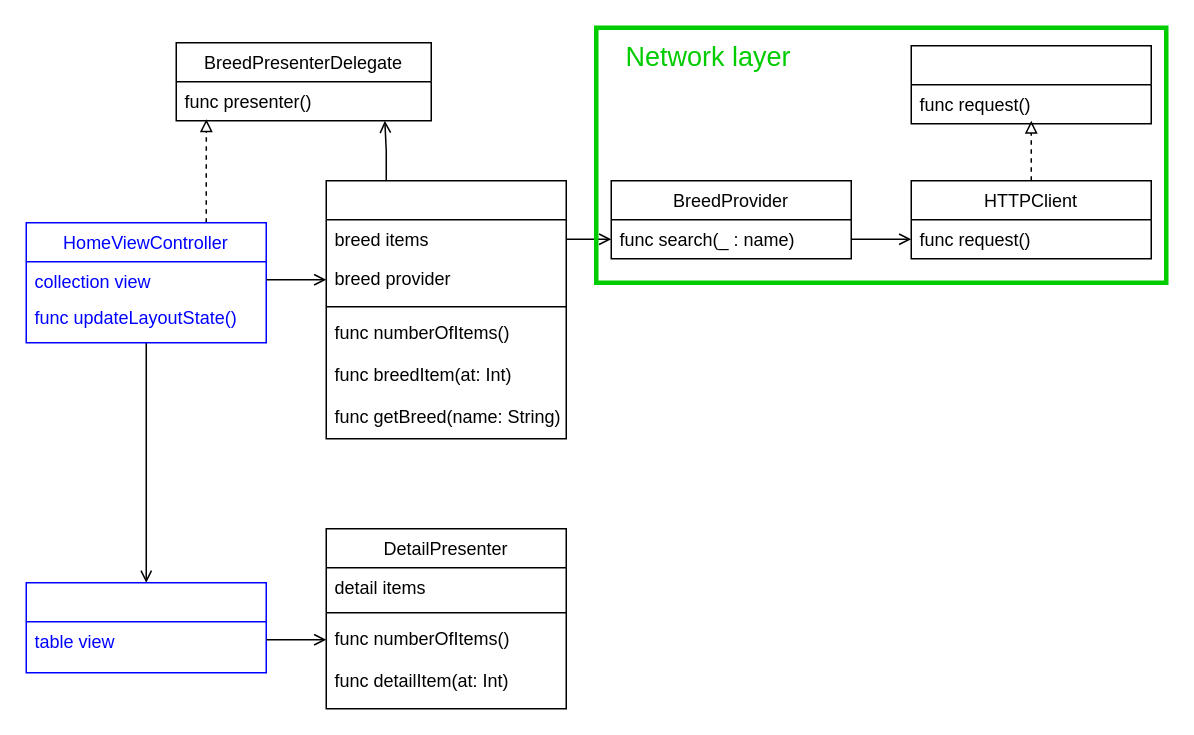
The diagram is 1194 pixels wide and 735 high, and some of its shapes have lost their labels. The box of each missing label's shape, as (x1, y1, x2, y2) in pixels:
BreedPresenter: (325, 179, 566, 439)
DetailViewController: (25, 581, 266, 673)
HTTPClientProtocol: (910, 44, 1151, 124)
